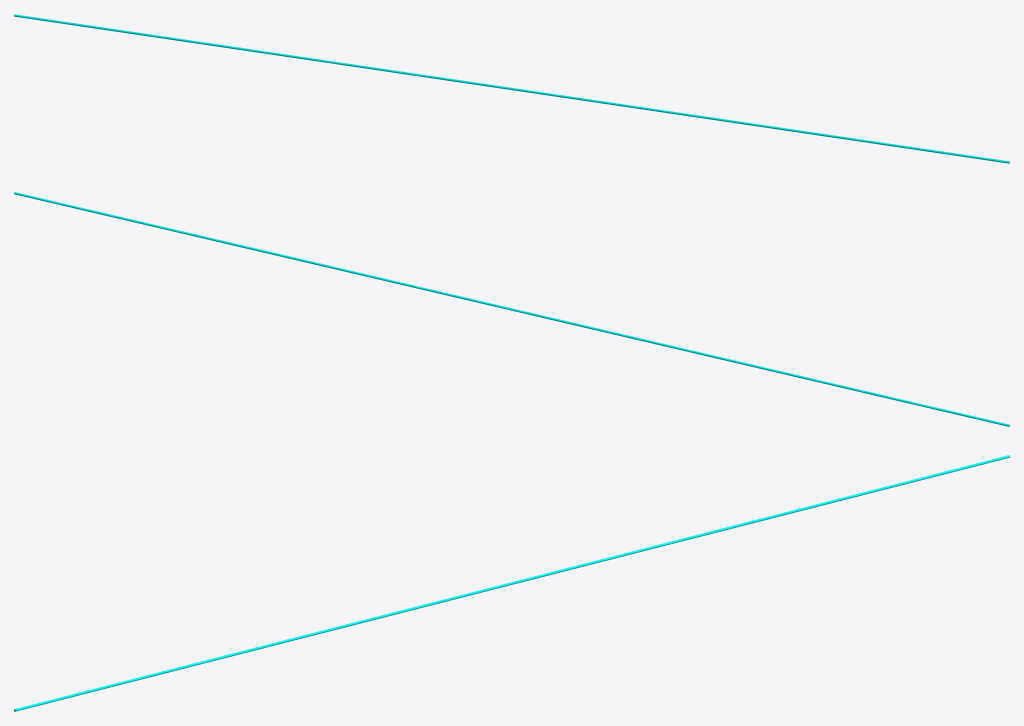
3 views of the same model, one above another, from view 1: azimuth 30°, elevation 25°; view 2: azimuth 210°, elevation 25°; view 3: azimuth 270°, elevation 25° (orthographic). The views are drawn at different scales.
Parts seen in each view (by area): view 1: Cylinder(Clone); view 2: Cylinder(Clone); view 3: Cylinder(Clone).
Part boxes in pixels (<box>): Cylinder(Clone): <box>14,14,1009,163</box>; Cylinder(Clone): <box>14,192,1009,426</box>; Cylinder(Clone): <box>14,455,1009,711</box>.
Size of the model in its own units: 1.35 by 0.1046 by 1.87.
